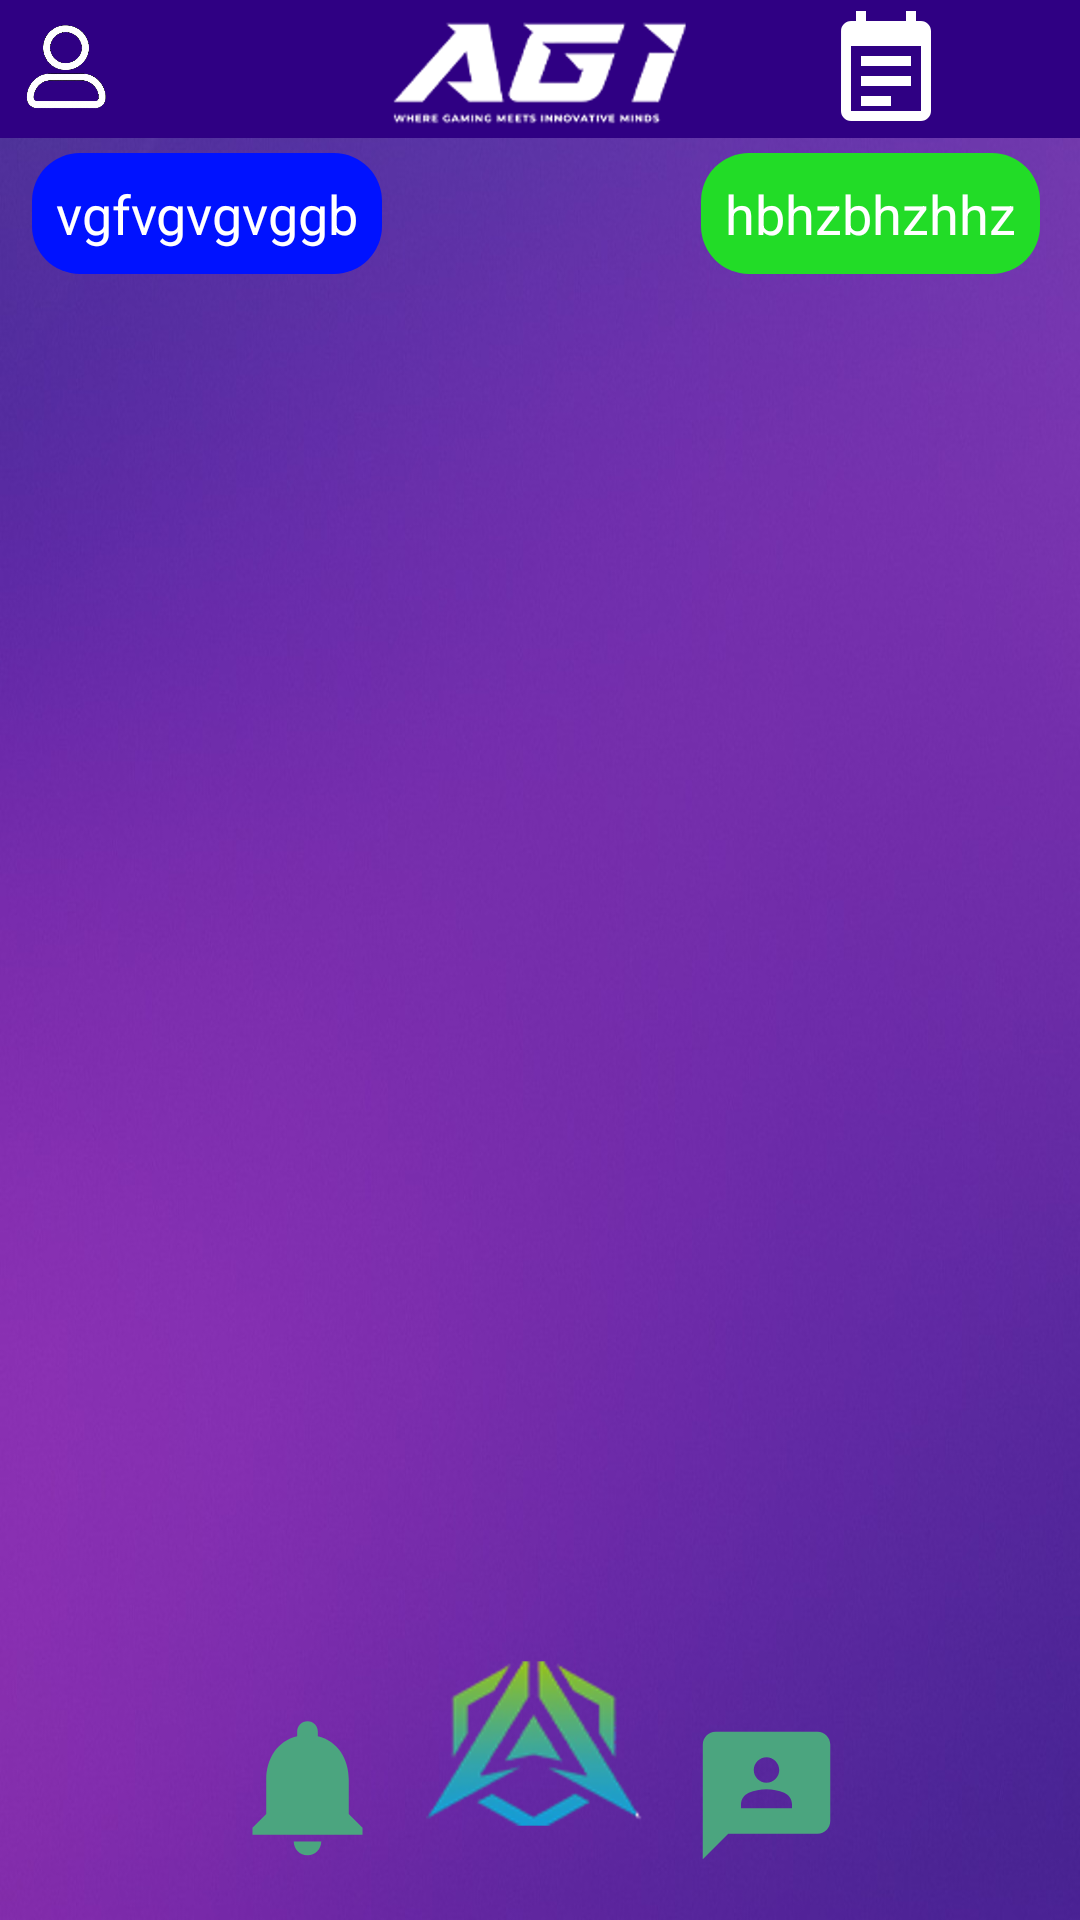

Named icons in this screenshot (1080 x 1920) and their bounding boxes, {"left": x1, "top": y1, "right": x2, "bottom": y2}:
agenda: {"left": 841, "top": 11, "right": 931, "bottom": 121}
directicon: {"left": 702, "top": 1731, "right": 831, "bottom": 1859}
notifications: {"left": 252, "top": 1721, "right": 363, "bottom": 1856}
profileicon: {"left": 27, "top": 25, "right": 106, "bottom": 108}
